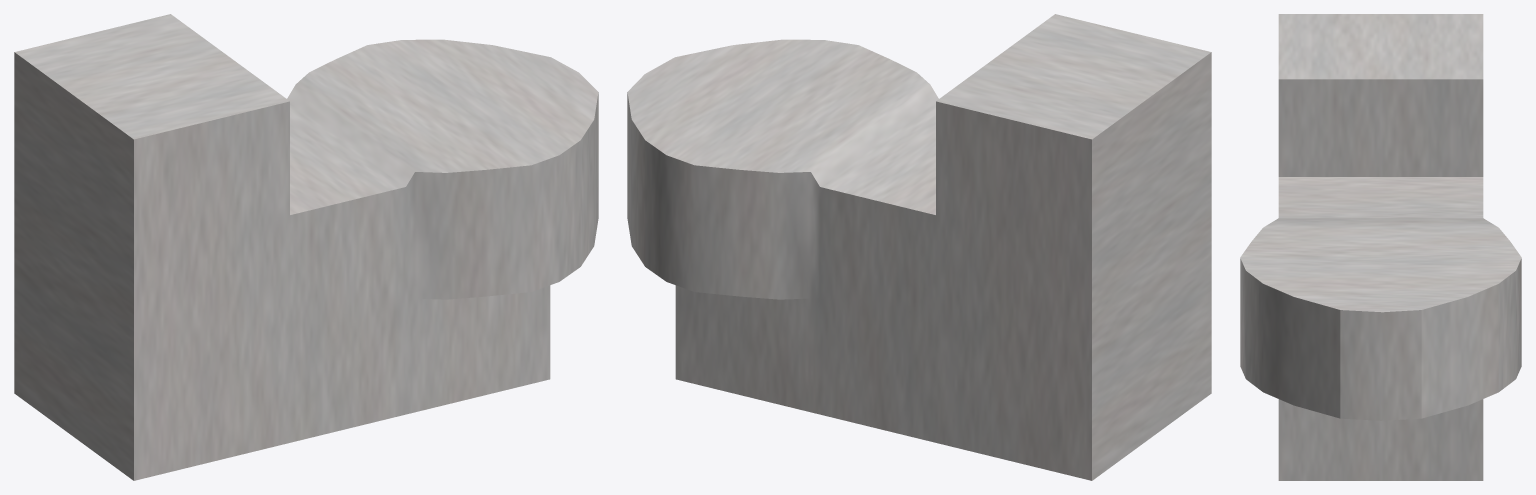
Rendered from prison_Toilet.fbx.
3 renders of one model, left to right at view 1: azimuth 30°, elevation 25°; view 2: azimuth 150°, elevation 25°; view 3: azimuth 270°, elevation 25°, orthographic. The views are drawn at different scales.
Parts seen in each view (by area): view 1: toilet; view 2: toilet; view 3: toilet.
Part boxes in pixels (x1,y1,x2,y2): toilet: (14,14,598,480); toilet: (627,14,1211,480); toilet: (1240,14,1521,480).
Size of the model in its own units: 89.04 by 57.42 by 50.06.
